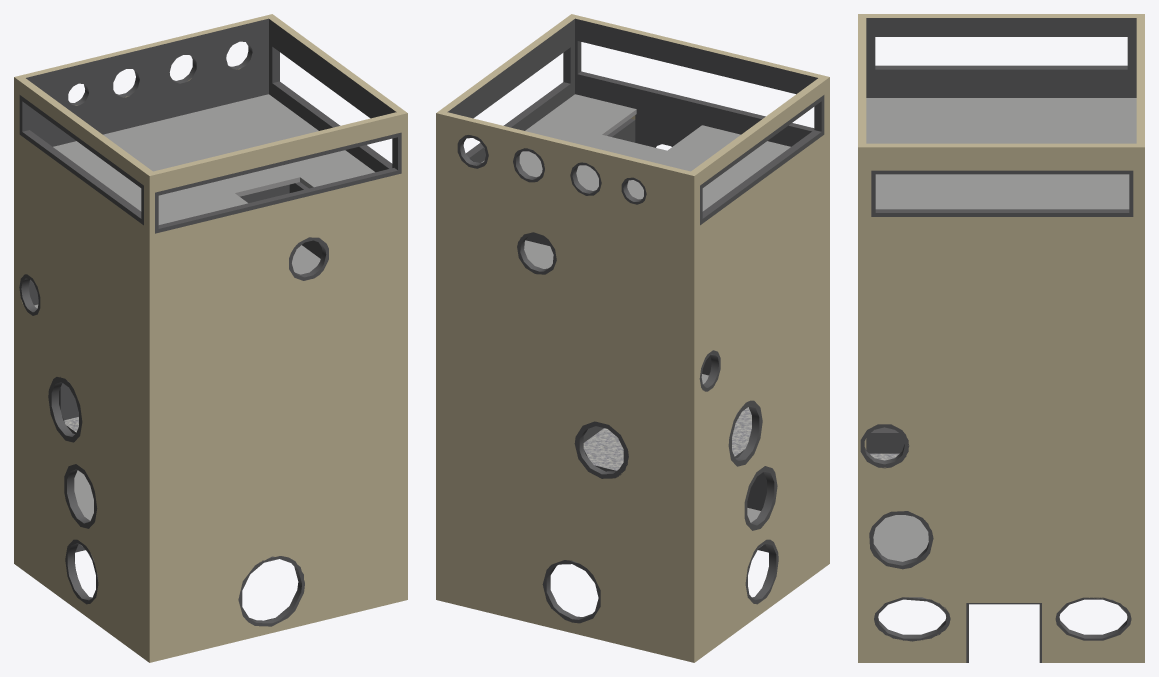
3 renders of one model, left to right at view 1: azimuth 30°, elevation 25°; view 2: azimuth 150°, elevation 25°; view 3: azimuth 270°, elevation 25°, orthographic. The views are drawn at different scales.
Parts seen in each view (by area): view 1: SketchUp_008; view 2: SketchUp_008; view 3: SketchUp_008.
Boxes of the visible parts, box(x1,y1,x2,y2) form: SketchUp_008: box(14, 14, 407, 662); SketchUp_008: box(436, 14, 829, 662); SketchUp_008: box(858, 14, 1144, 662).
Size of the model in its own units: 15.89 by 14.43 by 28.61.
Materials: 3 (3 with a texture image).
